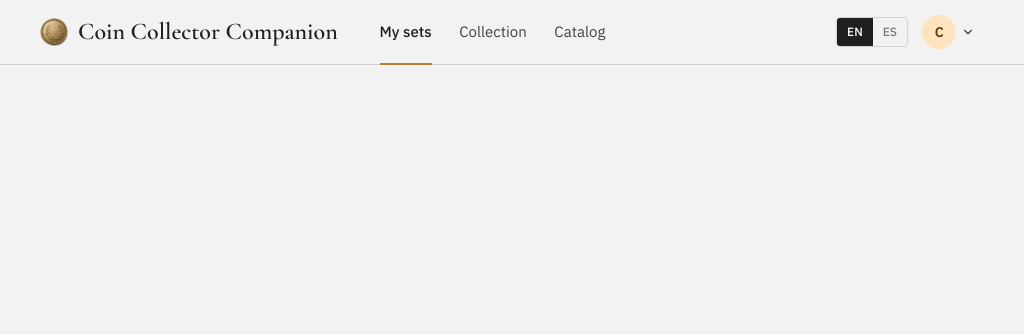
Test: SiteNav › criterion 4: account menu wiring › opens a menu with the header, Settings, My submissions, Import and Log out, and no Dashboard/Collection
This screenshot has width=1024, height=334.
Expected: the text with test id "site-nav-account-avatar" reads "C", top-left (935, 23), bottom-right (944, 41)
Click the button with test id "site-nav-account-trigger". click: x=951, y=32
box: top-left (917, 10), bottom-right (984, 54)
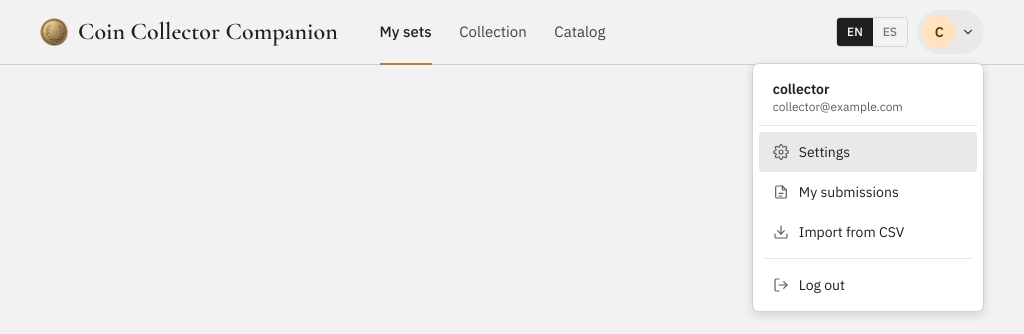
Expected: the text with test id "site-nav-account-email" reads "collector@example.com", top-left (773, 99), bottom-right (903, 114)
Expected: the menu item with test id "site-nav-logout" is shown, top-left (759, 265), bottom-right (977, 305)
